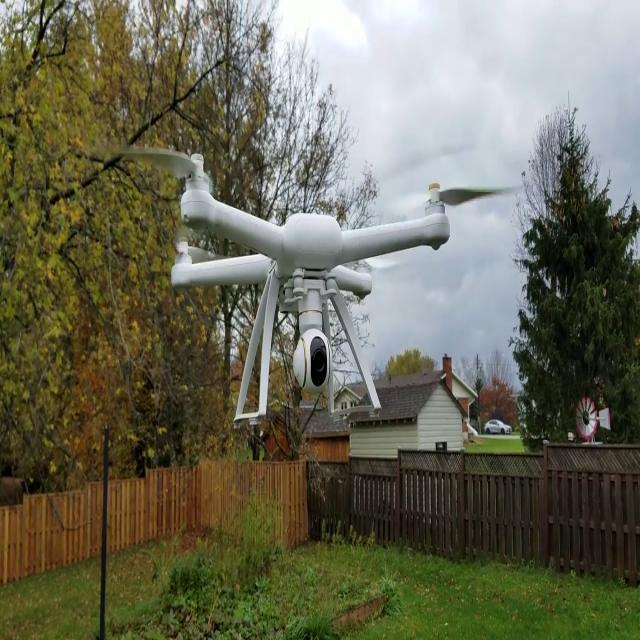drone: (107, 117, 521, 359)
